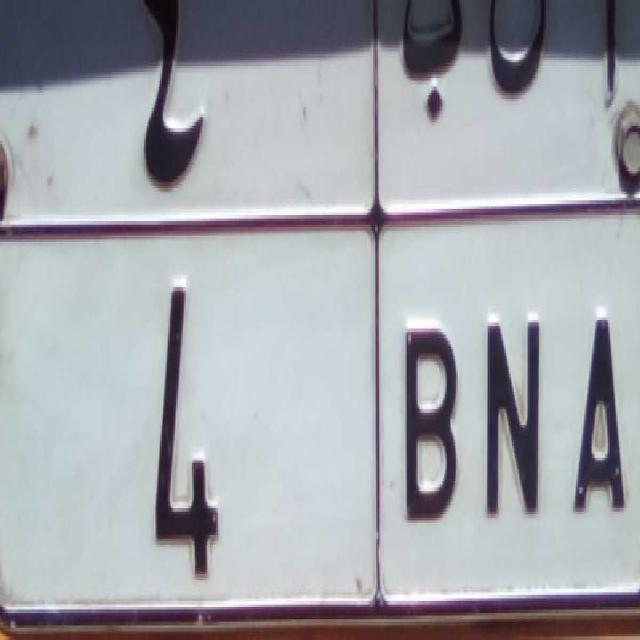license_plate: (0, 197, 640, 619)
